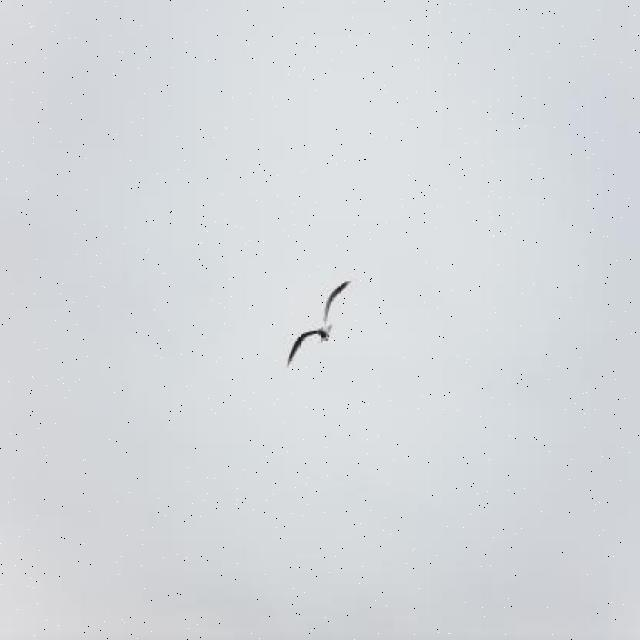bird: (287, 278, 353, 372)
